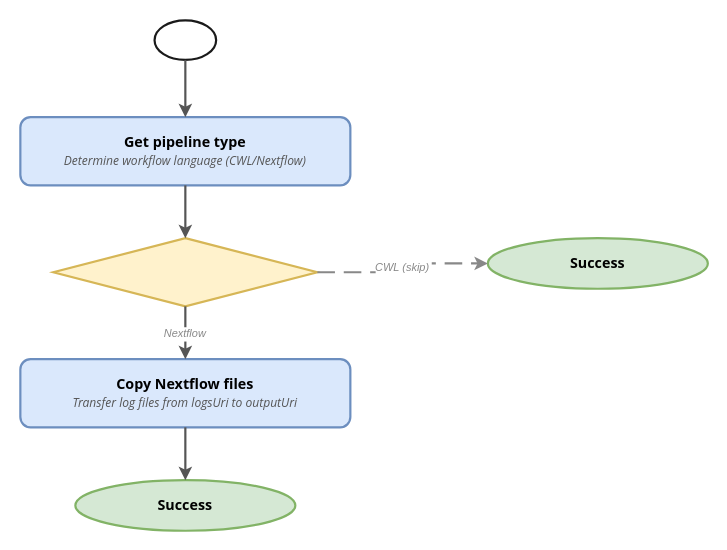
Some shapes in this 727 by 550 pixel diagram are drawn without their labels. The shapes that lost their labels are listed below. From the top down, each one's centre as x and y in pixels, then its label:
At point 185,40: "Start".
At point 185,272: "Is Nextflow pipeline?".
